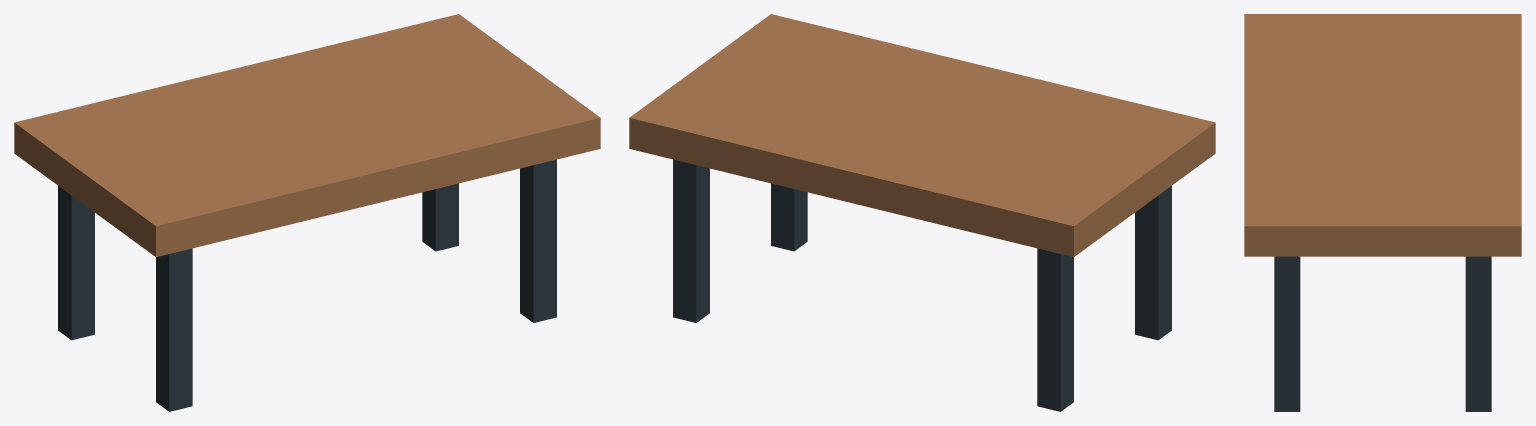
The model's file is coffee_table.glb.
3 views of the same model, side by side, from view 1: azimuth 30°, elevation 25°; view 2: azimuth 150°, elevation 25°; view 3: azimuth 270°, elevation 25° (orthographic). The views are drawn at different scales.
Parts seen in each view (by area): view 1: coffee_table; view 2: coffee_table; view 3: coffee_table.
Boxes of the visible parts, x1=… form: coffee_table: x1=14, y1=14, x2=600, y2=411; coffee_table: x1=629, y1=14, x2=1215, y2=411; coffee_table: x1=1244, y1=14, x2=1521, y2=411.
Size of the model in its own units: 1.05 by 0.46 by 0.58.
